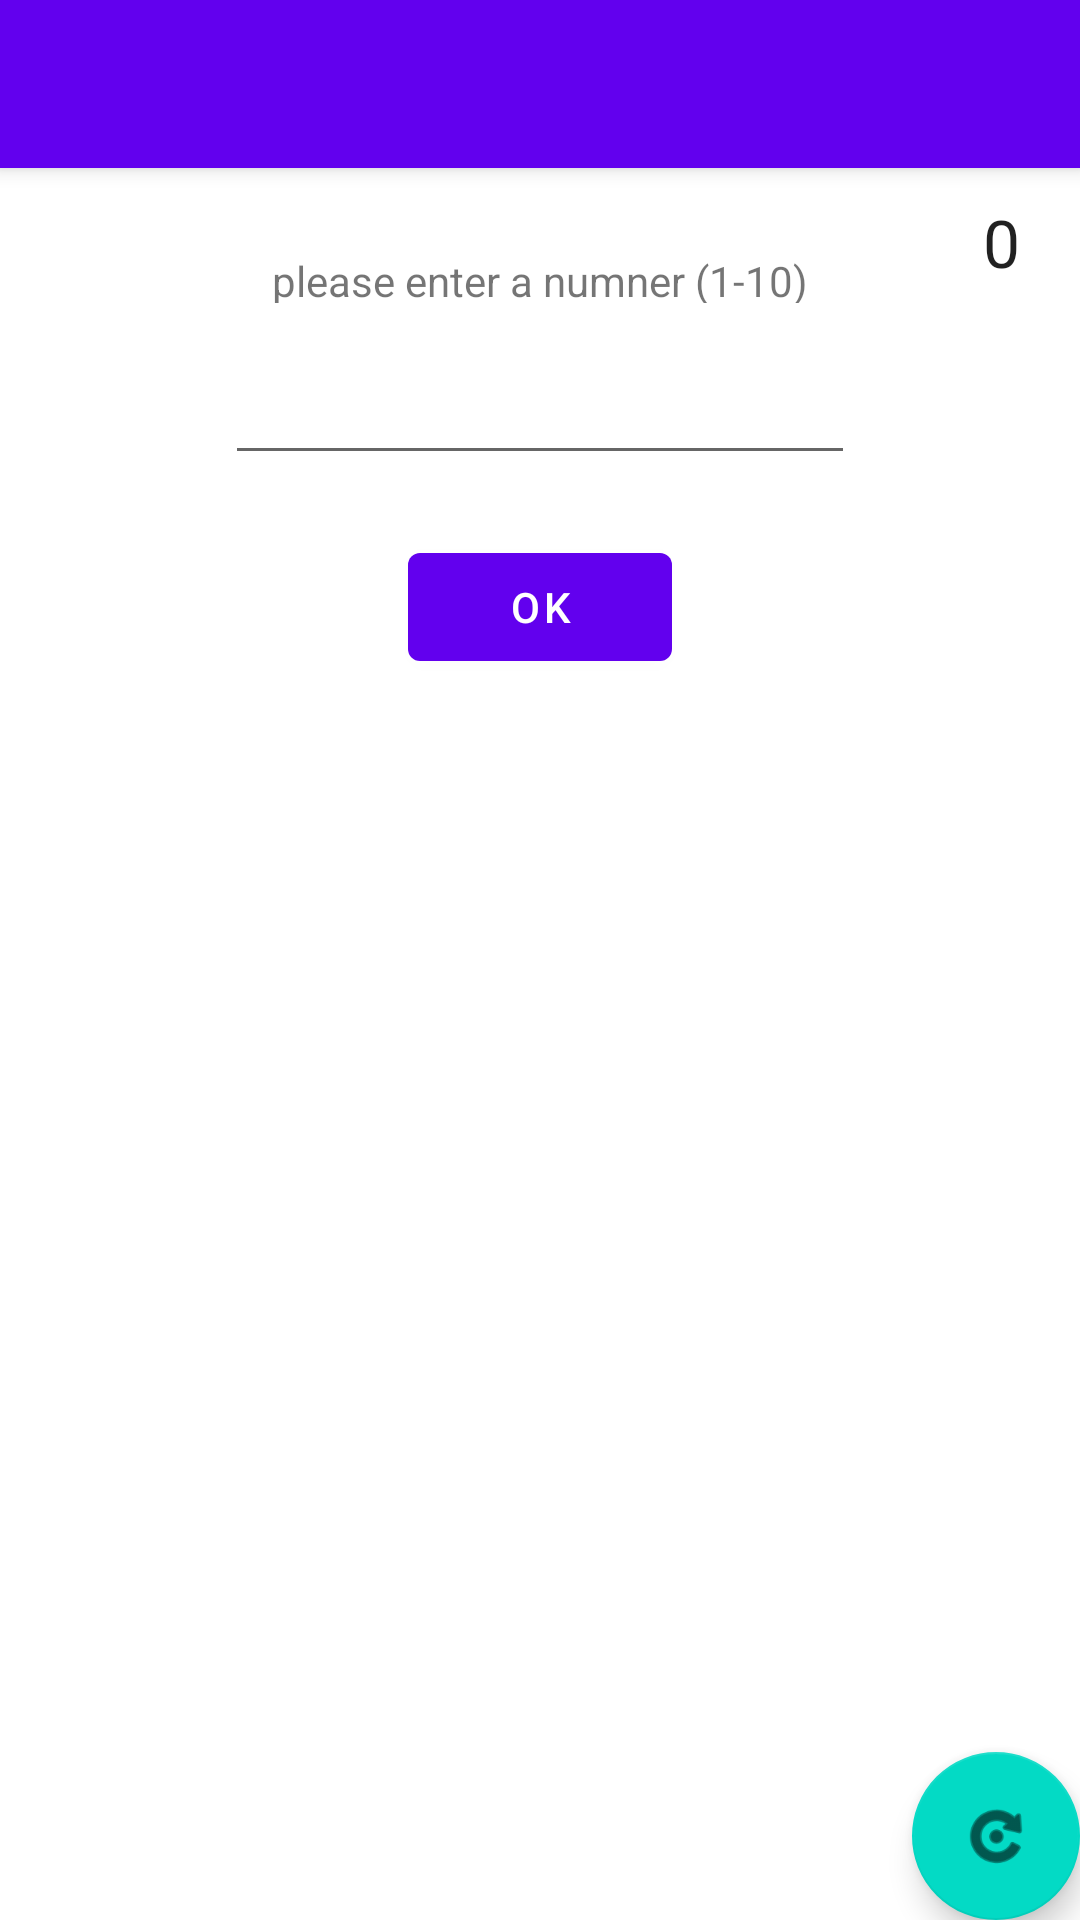

Where icons sit on this 1080w x 1920h app screen, as (x1, y1, x2, y2):
rotate: (912, 1752, 1080, 1920)
